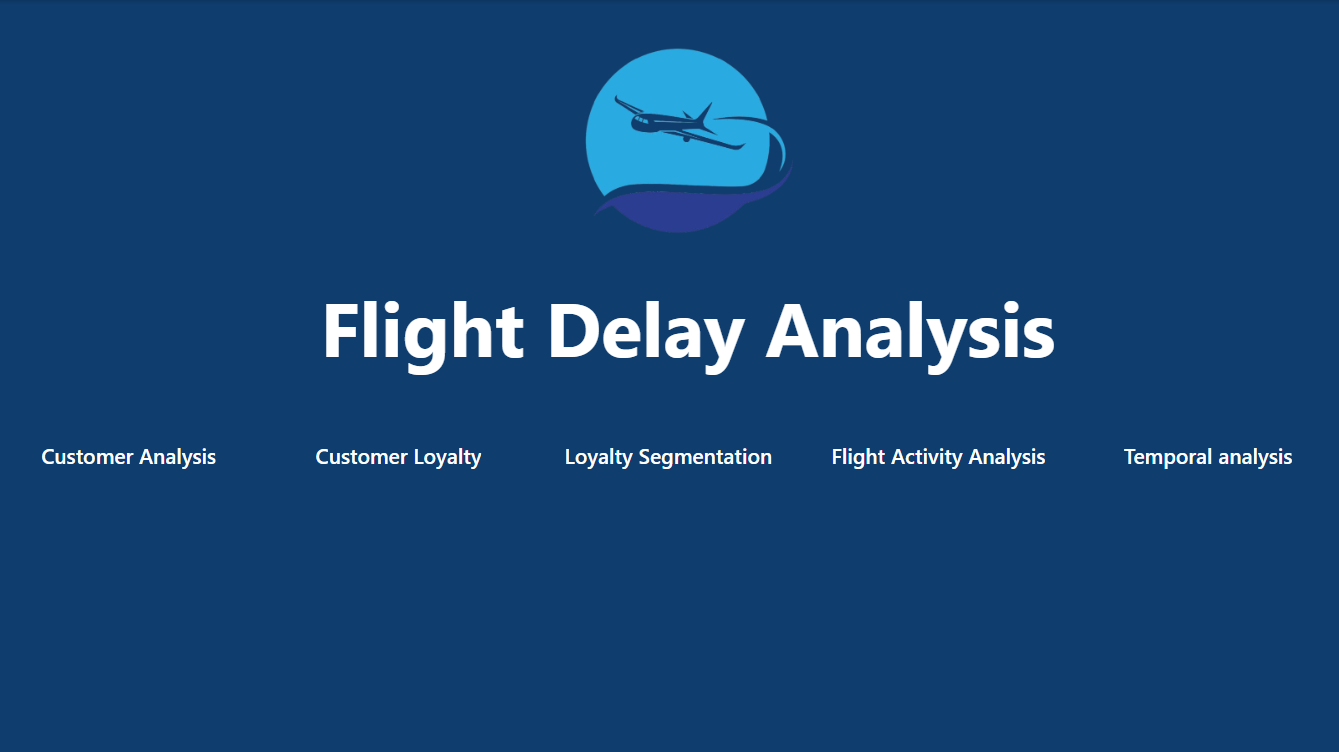

The dashboard page shown, as its layout file describes it:
{"tool":"powerbi","page":{"name":"Home","canvas":[1280,720],"ordinal":0},"visuals":[{"type":"textbox","box":[111.9,257.1,1088.1,151.2],"z":0},{"type":"pageNavigator","box":[0,408.3,1279.8,50],"z":1000},{"type":"image","box":[546.4,34.5,219,197.6],"z":2000}]}

Visuals, with their boxes in screenshot pixels (x1, y1, x2, y2), scaled from the page's 1280x720 canvas onto the 1339x752 screenshot:
textbox: <bbox>117, 269, 1255, 426</bbox>
pageNavigator: <bbox>0, 426, 1338, 479</bbox>
image: <bbox>572, 36, 801, 242</bbox>
